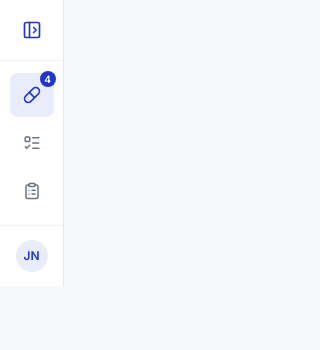
Test: SectionRail › expands on toggle: full text labels appear and the clinic name is shown
Click the button named "Expand pharmacy navigation" at coordinates (32, 30), box [10,8,54,52]
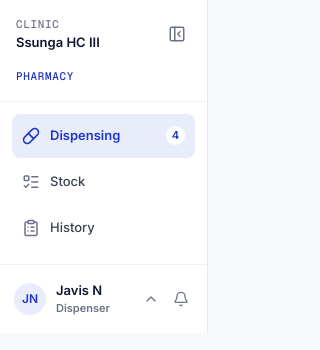
expect the text "Ssunga HC III" is shown: met, box [16,32,100,52]
expect the text "Dispensing" is shown: met, box [50,127,120,143]
expect the button named "Collapse pharmacy navigation" is shown: met, box [155,12,199,56]
